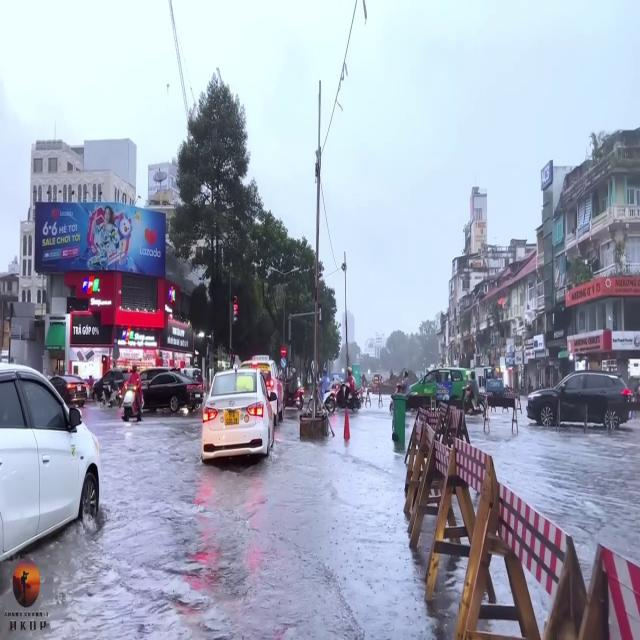bien_vang: (224, 409, 240, 428)
